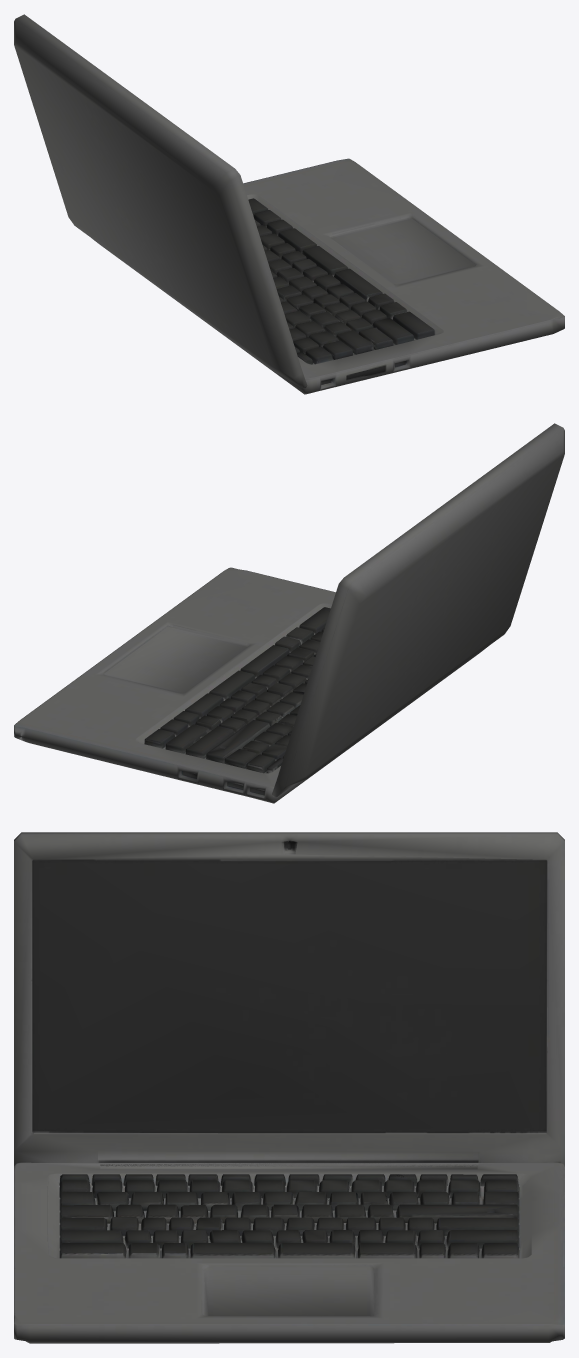
The model's file is Laptop.glb.
3 renders of one model, top to bottom at view 1: azimuth 30°, elevation 25°; view 2: azimuth 150°, elevation 25°; view 3: azimuth 270°, elevation 25°, orthographic. The views are drawn at different scales.
Visible parts, largest first — view 1: aiprintgen_node_9c55d4b9-624b-40ec-855b-7cbea6ebddc5; view 2: aiprintgen_node_9c55d4b9-624b-40ec-855b-7cbea6ebddc5; view 3: aiprintgen_node_9c55d4b9-624b-40ec-855b-7cbea6ebddc5.
Boxes of the visible parts, x1,y1,x2,y2 form: aiprintgen_node_9c55d4b9-624b-40ec-855b-7cbea6ebddc5: [14, 14, 564, 394]; aiprintgen_node_9c55d4b9-624b-40ec-855b-7cbea6ebddc5: [14, 423, 564, 803]; aiprintgen_node_9c55d4b9-624b-40ec-855b-7cbea6ebddc5: [14, 832, 564, 1343].
Bounding box in the file's own units: 0.9121 × 0.6309 × 0.998.
1 material, 1 textured.
